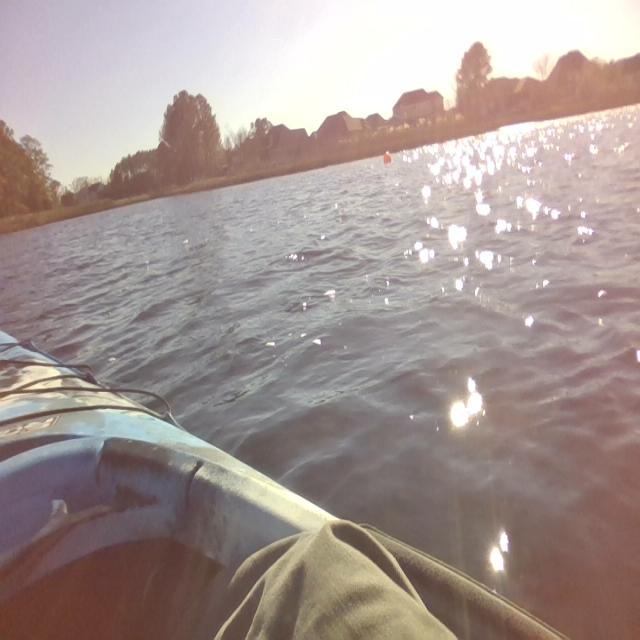Buoy: (378, 146, 396, 170)
